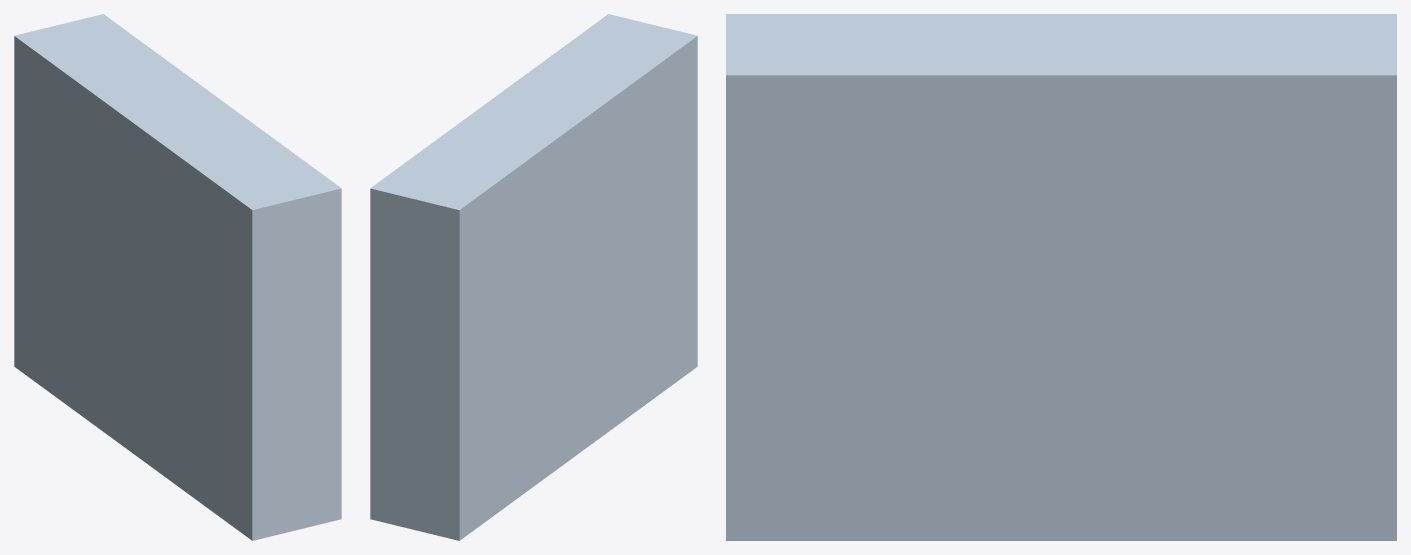
Rendered from MediumWall2.fbx.
The picture shows the model from 3 angles, left to right: view 1: azimuth 30°, elevation 25°; view 2: azimuth 150°, elevation 25°; view 3: azimuth 270°, elevation 25°; orthographic projection. The views are drawn at different scales.
Parts seen in each view (by area): view 1: WallMedium2; view 2: WallMedium2; view 3: WallMedium2.
Part boxes in pixels (x1,y1,x2,y2): WallMedium2: (14, 14, 341, 540); WallMedium2: (370, 14, 697, 540); WallMedium2: (726, 14, 1396, 540).
Bounding box in the file's own units: 25.51 × 90.25 × 118.
